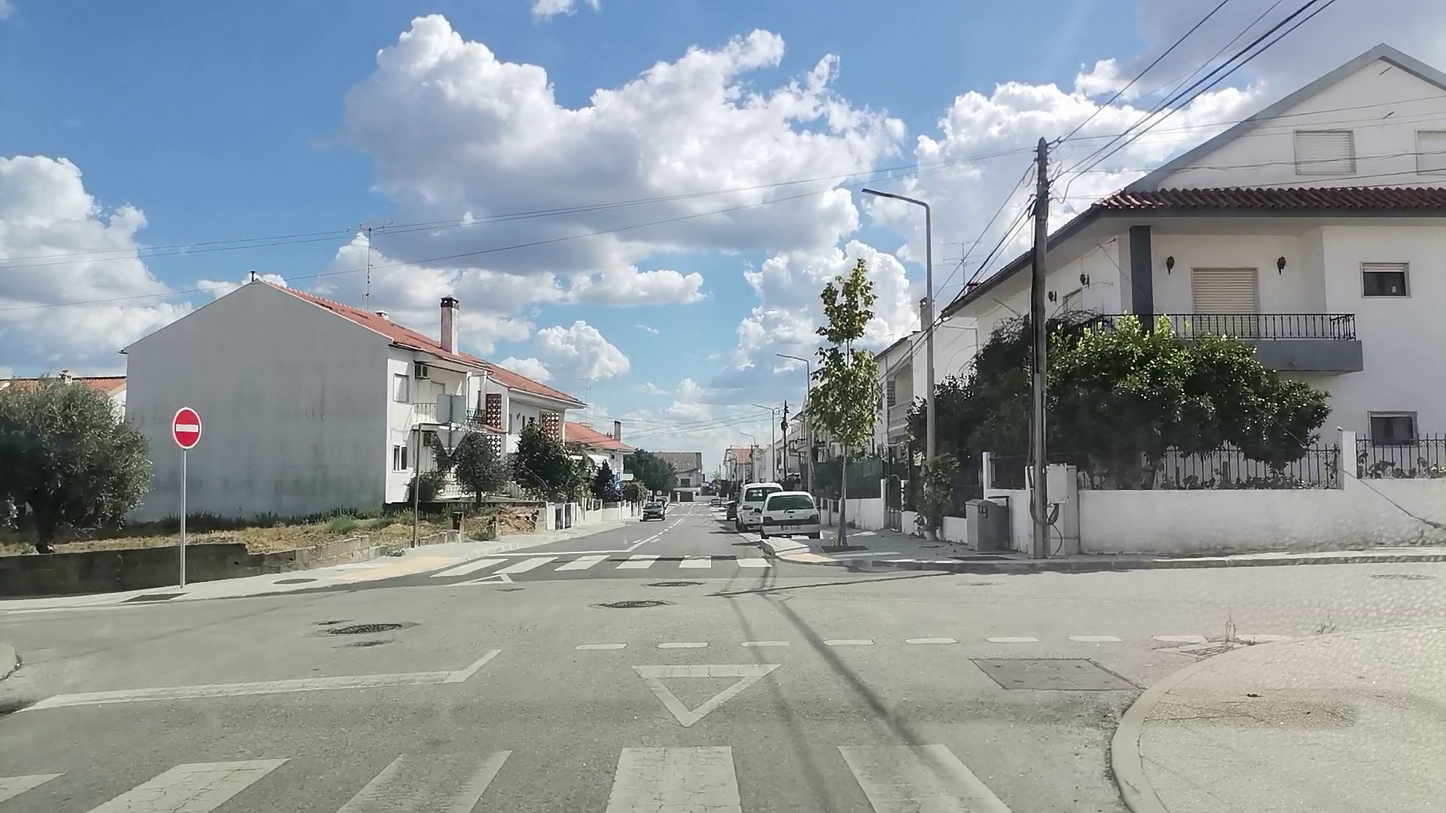Stairs: (437, 553, 776, 576)
